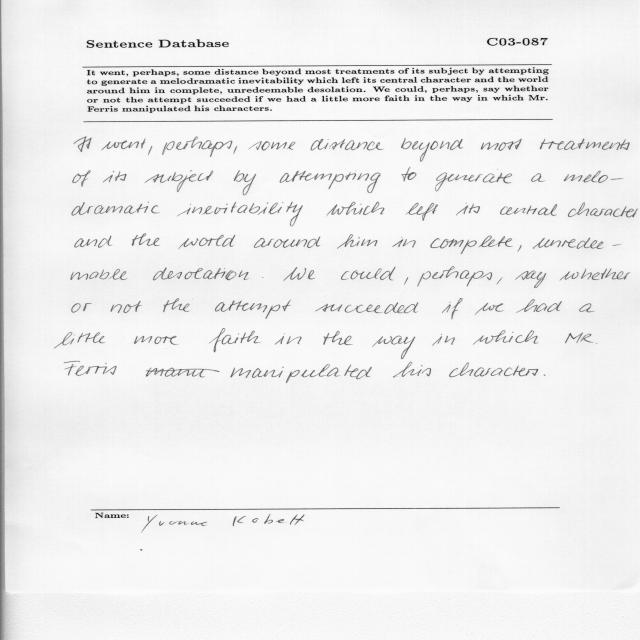word: (146, 364, 372, 383), (177, 202, 303, 226), (280, 171, 381, 193), (435, 169, 512, 191), (145, 170, 213, 192), (401, 138, 463, 162), (418, 267, 492, 287), (430, 236, 512, 254), (215, 300, 291, 319), (162, 137, 232, 157), (449, 363, 538, 378), (153, 268, 249, 281), (209, 329, 261, 353), (316, 302, 418, 314), (72, 202, 160, 215), (568, 203, 638, 218), (540, 139, 630, 150), (372, 336, 415, 359), (473, 330, 538, 345), (533, 238, 621, 249), (560, 268, 630, 281), (54, 332, 105, 348), (327, 202, 385, 216), (311, 139, 384, 150), (179, 235, 236, 249), (65, 361, 117, 376), (564, 170, 623, 183), (254, 237, 320, 248), (341, 267, 396, 280), (500, 204, 557, 216), (516, 299, 562, 313), (71, 269, 128, 280), (337, 234, 378, 249), (406, 203, 438, 221), (393, 362, 431, 377), (234, 170, 256, 195), (516, 271, 547, 288), (481, 139, 522, 151), (102, 139, 146, 150), (283, 267, 315, 281), (75, 236, 112, 248), (442, 298, 463, 319), (323, 331, 353, 345), (249, 141, 295, 150), (134, 336, 178, 345), (565, 332, 597, 344), (163, 298, 190, 312), (111, 301, 142, 313), (475, 303, 504, 315), (132, 234, 160, 246), (275, 333, 302, 345), (73, 170, 91, 187), (456, 203, 480, 215), (432, 334, 455, 346), (74, 137, 92, 152), (103, 171, 127, 182), (392, 237, 416, 248), (402, 168, 417, 182), (72, 303, 92, 313), (579, 304, 595, 313), (531, 173, 545, 182), (497, 278, 503, 285), (149, 146, 153, 155), (234, 146, 238, 154), (404, 277, 408, 285), (518, 245, 522, 252), (544, 374, 546, 376), (262, 277, 263, 278)
